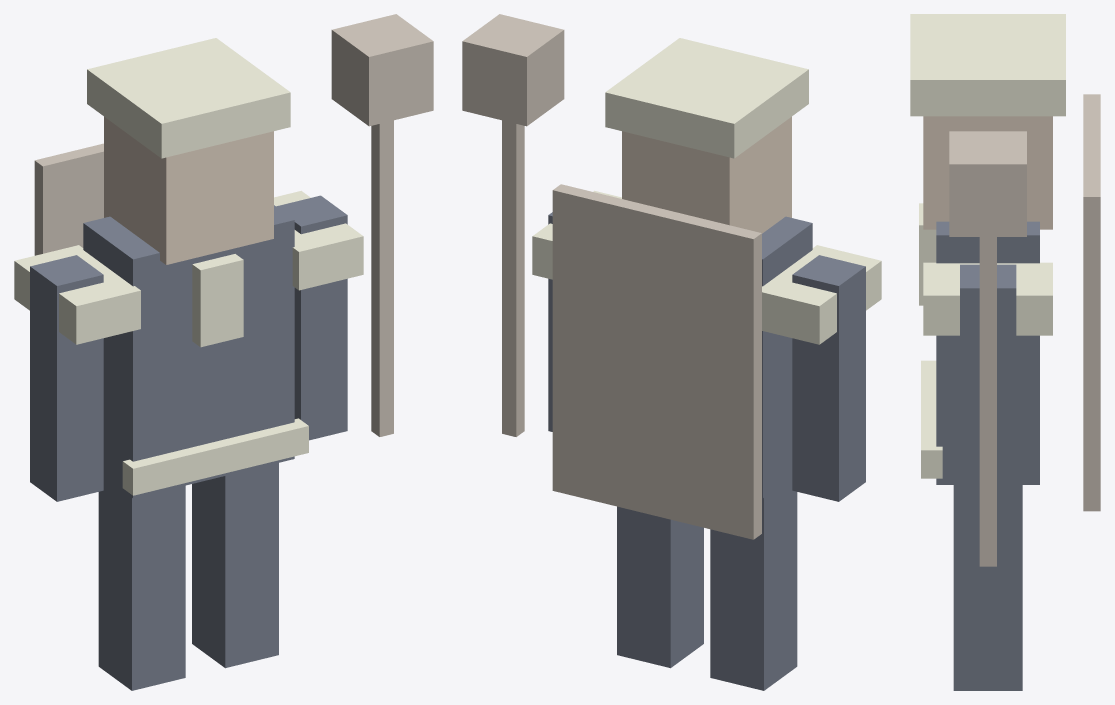
File: 16_nix_gearmantle_medic_near_drone.glb
3 renders of one model, left to right at view 1: azimuth 30°, elevation 25°; view 2: azimuth 150°, elevation 25°; view 3: azimuth 270°, elevation 25°, orthographic. The views are drawn at different scales.
Visible parts, largest first — view 1: Nix Gearmantle, Medic near Drone; view 2: Nix Gearmantle, Medic near Drone; view 3: Nix Gearmantle, Medic near Drone.
Part boxes in pixels (left/top/right/bottom): Nix Gearmantle, Medic near Drone: left=14, top=14, right=433, bottom=690; Nix Gearmantle, Medic near Drone: left=462, top=14, right=881, bottom=690; Nix Gearmantle, Medic near Drone: left=910, top=14, right=1100, bottom=690.
Bounding box in the file's own units: 1.02 × 1.52 × 0.4337.
